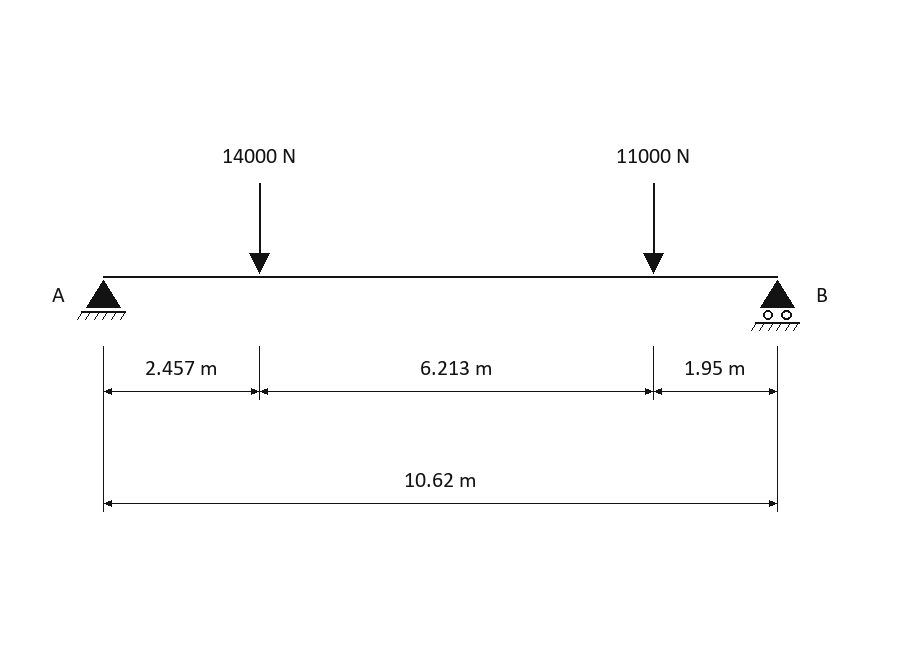pin_support: (77, 280, 126, 320)
point_load: (249, 183, 270, 274), (643, 183, 664, 274)
roller_support: (751, 280, 800, 331)
